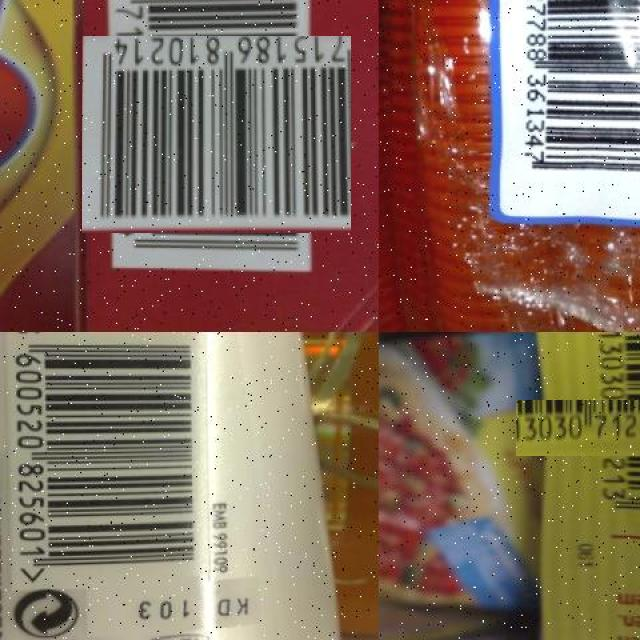Barcode: (99, 18, 333, 251), (7, 332, 213, 588), (508, 0, 640, 201), (550, 366, 640, 490)
